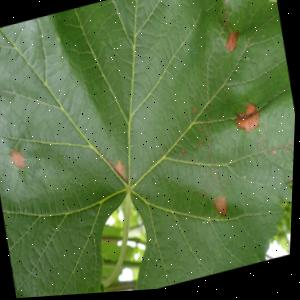Folha: (0, 0, 300, 300)
Fungo: (212, 0, 244, 59), (231, 103, 263, 138), (108, 156, 130, 189), (221, 31, 242, 57), (8, 145, 27, 172), (212, 196, 230, 223), (243, 103, 258, 120), (178, 149, 187, 161), (192, 107, 197, 117), (198, 143, 203, 149)
